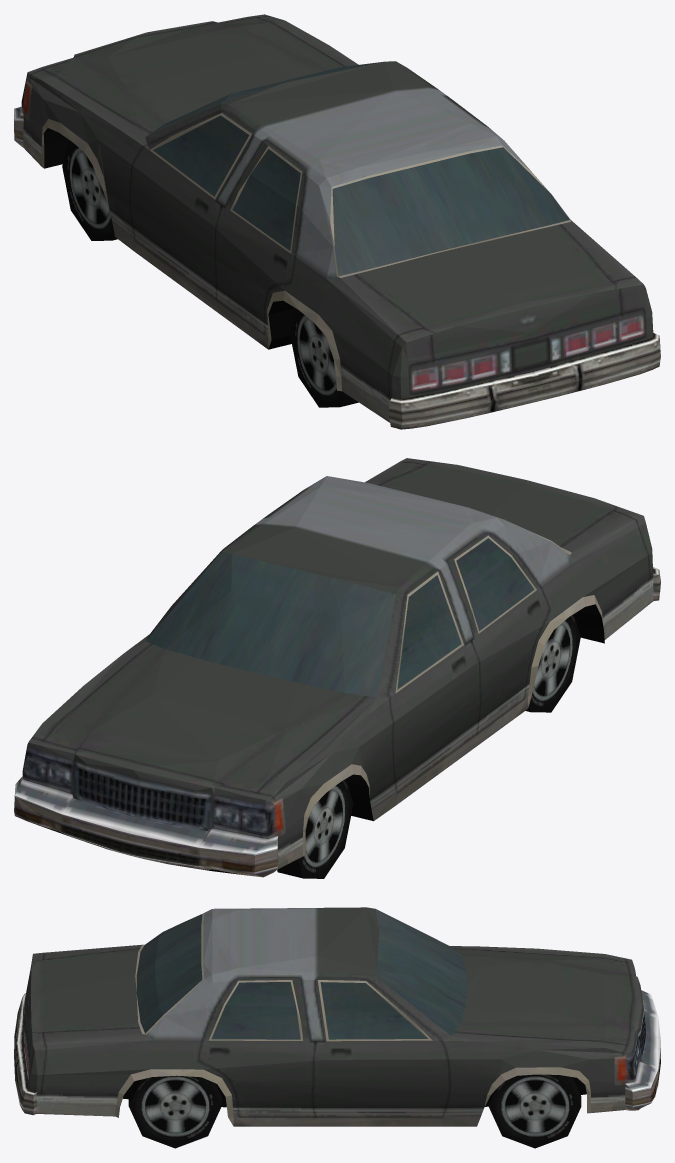
Rendered from CarroSemCimento.fbx.
3 renders of one model, top to bottom at view 1: azimuth 30°, elevation 25°; view 2: azimuth 150°, elevation 25°; view 3: azimuth 270°, elevation 25°, orthographic. The views are drawn at different scales.
Parts seen in each view (by area): view 1: car3; view 2: car3; view 3: car3.
Boxes of the visible parts, <box> form: car3: <box>14,14,660,429</box>; car3: <box>14,458,660,878</box>; car3: <box>14,907,660,1148</box>.
Size of the model in its own units: 15.31 by 11.36 by 39.95.
